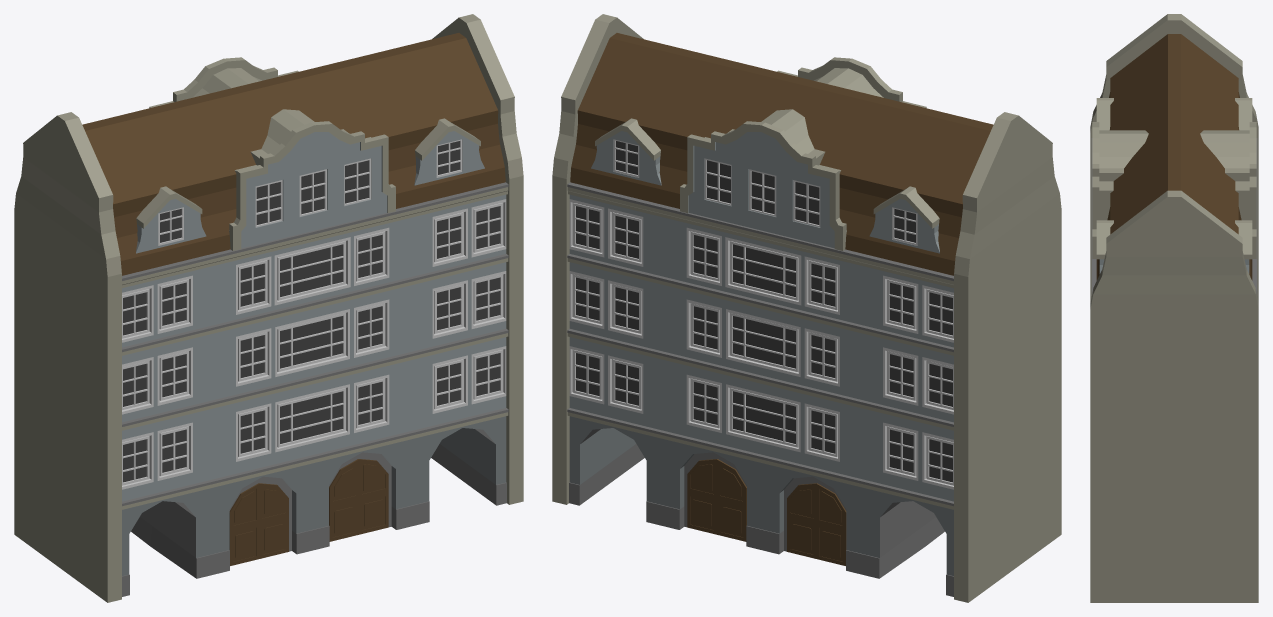
The model's file is Building2_Large.glb.
3 renders of one model, left to right at view 1: azimuth 30°, elevation 25°; view 2: azimuth 150°, elevation 25°; view 3: azimuth 270°, elevation 25°, orthographic. The views are drawn at different scales.
Parts seen in each view (by area): view 1: Building2_Large; view 2: Building2_Large; view 3: Building2_Large.
Boxes of the visible parts, box(x1,y1,x2,y2) form: Building2_Large: box(14, 14, 523, 602); Building2_Large: box(552, 14, 1061, 602); Building2_Large: box(1090, 14, 1258, 602).
Bounding box in the file's own units: 5.72 × 5.92 × 2.22.
